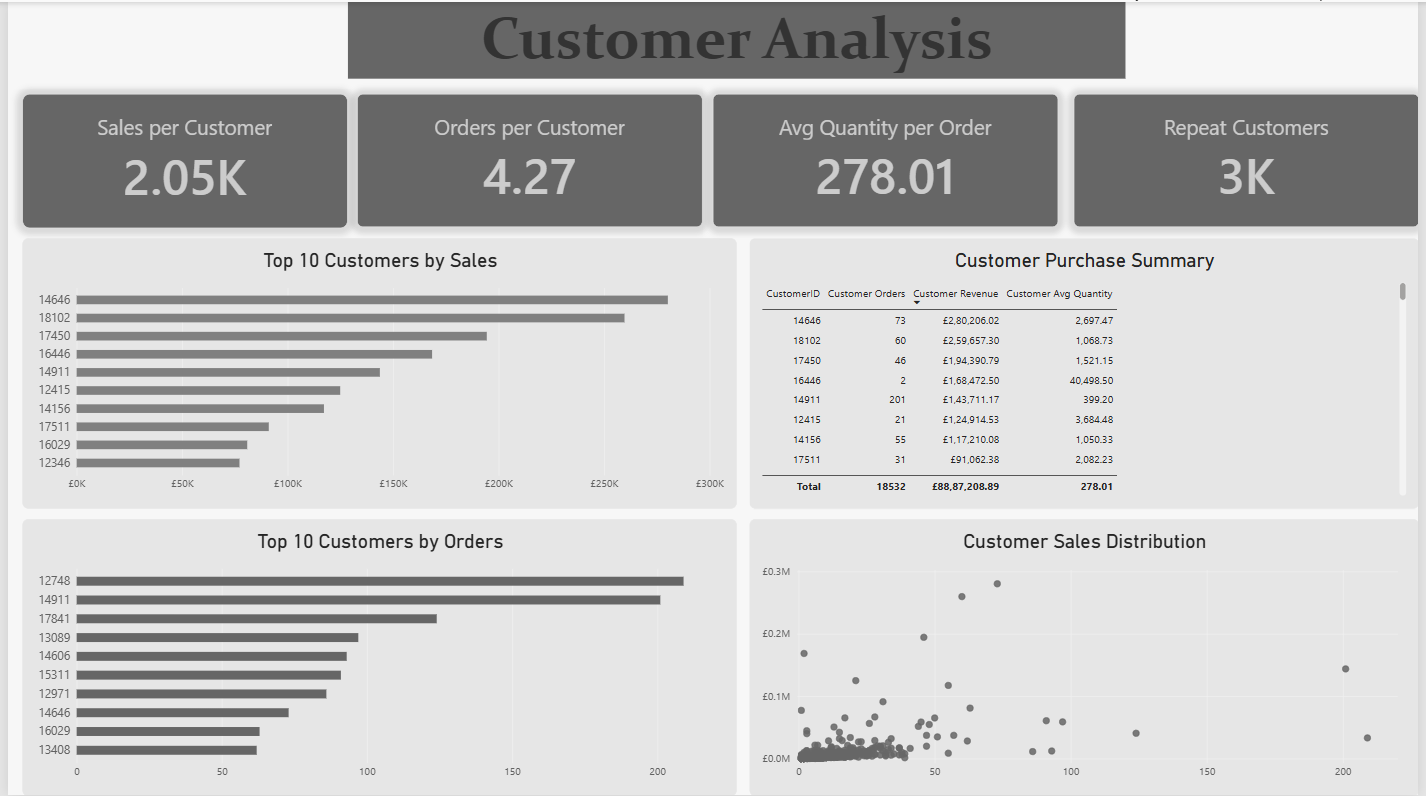

This screenshot's page, from the dashboard's own definition file:
{"tool":"powerbi","page":{"name":"Customer Analysis","canvas":[1920,1080],"ordinal":1},"visuals":[{"type":"textbox","box":[462.9,0,1058.4,104.5],"z":0},{"type":"cardVisual","fields":{"Data":["SQL_sales.Sales per Customer"]},"box":[20.5,125.1,442.4,182.9],"z":1000},{"type":"cardVisual","fields":{"Data":["SQL_sales.Orders per Customer"]},"box":[476,125.1,470.4,181.1],"z":2000},{"type":"clusteredBarChart","title":"Top 10 Customers by Sales","fields":{"Category":["ecommerce_cleaned csv.CustomerID"],"Y":["ecommerce_cleaned csv.Total Sales"]},"box":[20.5,321.1,972.5,367.7],"z":5000},{"type":"clusteredBarChart","title":"Top 10 Customers by Orders","fields":{"Category":["ecommerce_cleaned csv.CustomerID"],"Y":["ecommerce_cleaned csv.Total Orders"]},"box":[20.5,703.7,972.5,377.1],"z":6000},{"type":"tableEx","title":"Customer Purchase Summary","fields":{"Values":["ecommerce_cleaned csv.CustomerID","SQL_sales.Customer Orders","SQL_sales.Customer Revenue","SQL_sales.Customer Avg Quantity"]},"box":[1009.9,321.1,910.9,367.7],"z":7000},{"type":"scatterChart","title":"Customer Sales Distribution","fields":{"Category":["ecommerce_cleaned csv.CustomerID"],"X":["ecommerce_cleaned csv.Total Orders"],"Y":["ecommerce_cleaned csv.Total Sales"]},"box":[1009.9,703.7,910.9,377.1],"z":8000},{"type":"cardVisual","fields":{"Data":["SQL_sales.Avg Quantity per Order"]},"box":[959.5,125.1,470.4,181.1],"z":8001},{"type":"cardVisual","fields":{"Data":["SQL_sales.Repeat Customers"]},"box":[1450.4,125.1,470.4,181.1],"z":8002}]}

Visuals, with their boxes in screenshot pixels (x1, y1, x2, y2), scaled from the page's 1920x1080 canvas onto the 1426x796 screenshot:
textbox: l=344, t=0, r=1130, b=77
cardVisual - SQL_sales.Sales per Customer: l=15, t=92, r=344, b=227
cardVisual - SQL_sales.Orders per Customer: l=354, t=92, r=703, b=226
"Top 10 Customers by Sales" clusteredBarChart: l=15, t=237, r=738, b=508
"Top 10 Customers by Orders" clusteredBarChart: l=15, t=519, r=738, b=795
"Customer Purchase Summary" tableEx: l=750, t=237, r=1425, b=508
"Customer Sales Distribution" scatterChart: l=750, t=519, r=1425, b=795
cardVisual - SQL_sales.Avg Quantity per Order: l=713, t=92, r=1062, b=226
cardVisual - SQL_sales.Repeat Customers: l=1077, t=92, r=1425, b=226
